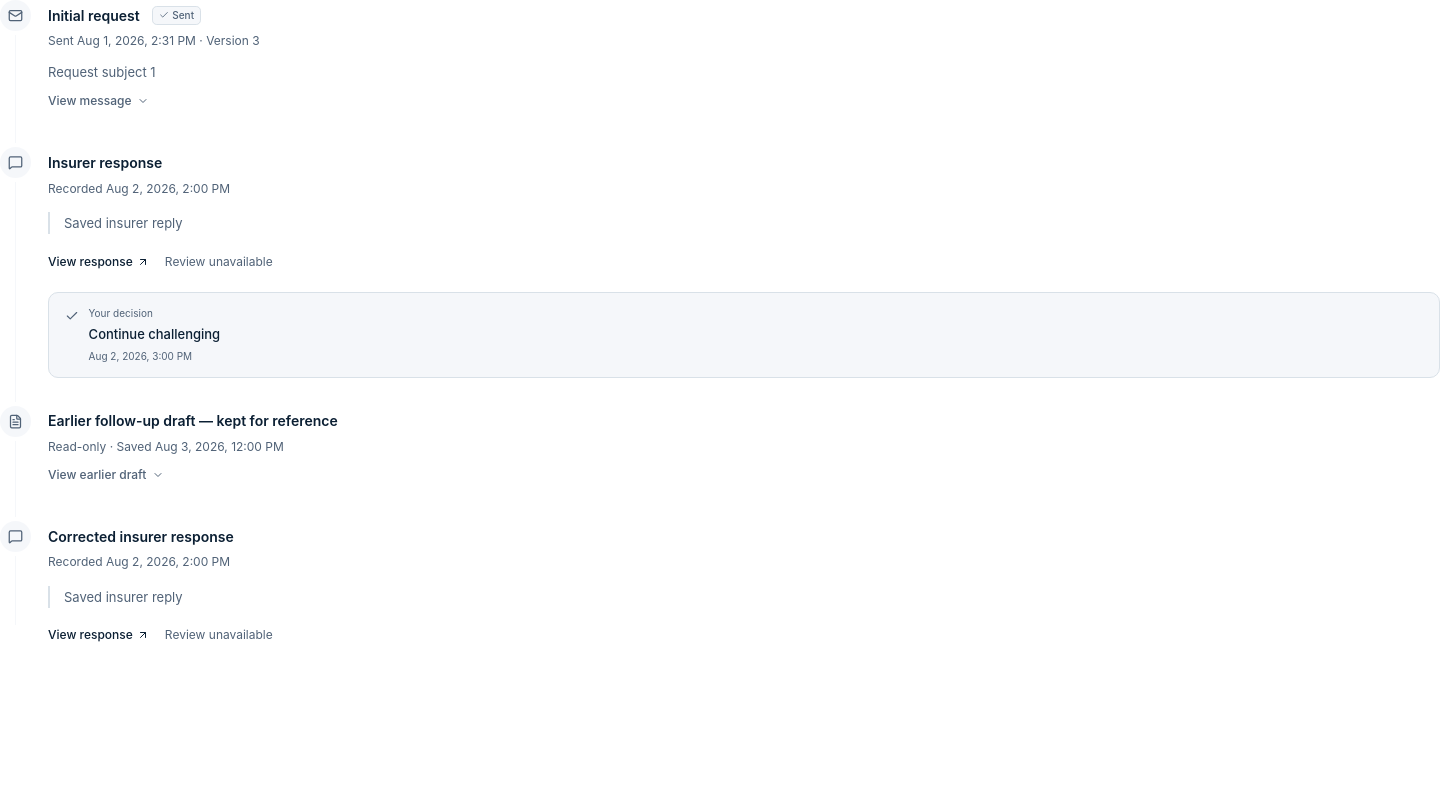
Test: immutable negotiation history › shows differing same-tab edits separately and does not claim they were saved
This screenshot has width=1440, height=810.
What coordinates should you click on to do the following:
click the 3rd heading
I would click on:
 (193, 447)
Its box is [48, 412, 338, 482].
(page scrolled)
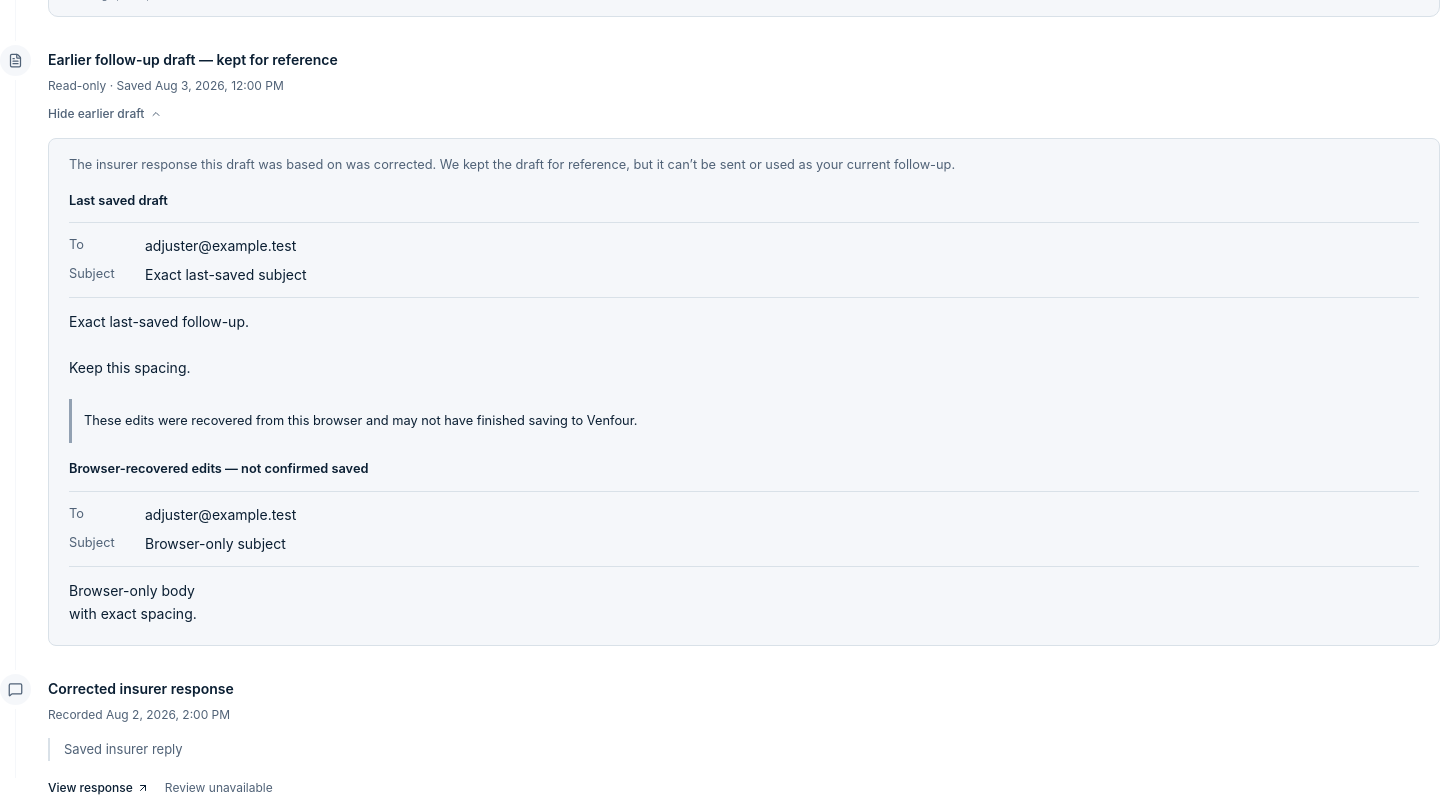
Result: the number of elements with class "case-history-draft-version" is 2 at [69, 191, 1419, 384]; [69, 459, 1419, 629]
Result: the element with class "case-history-draft-version" shows "Exact last-saved subject" at [145, 266, 306, 283]
Result: the element with class "case-history-draft-version" shows "Browser-only subject" at [145, 534, 286, 552]
